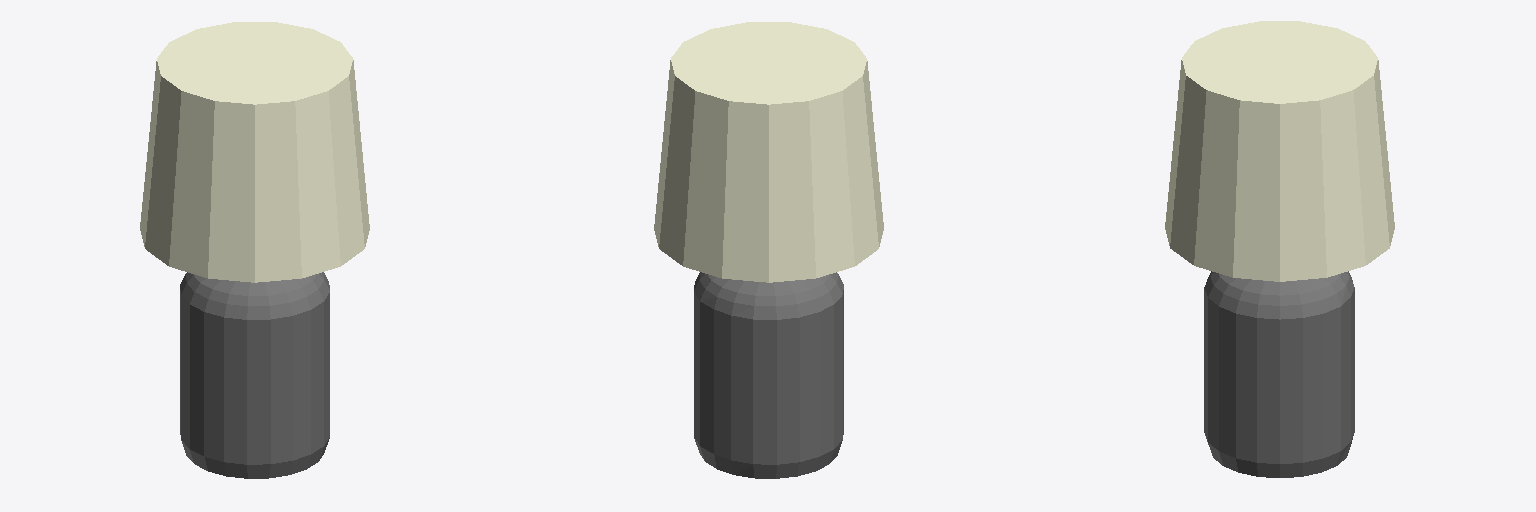
Rendered from lamptexture.obj.
3 views of the same model, side by side, from view 1: azimuth 30°, elevation 25°; view 2: azimuth 150°, elevation 25°; view 3: azimuth 270°, elevation 25° (orthographic).
Parts seen in each view (by area): view 1: group pasted__lampshade, group pasted__pCylinder1; view 2: group pasted__lampshade, group pasted__pCylinder1; view 3: group pasted__lampshade, group pasted__pCylinder1.
Part boxes in pixels (left/top/right/bottom): group pasted__lampshade: left=140, top=22, right=369, bottom=282; group pasted__pCylinder1: left=180, top=272, right=329, bottom=478; group pasted__lampshade: left=654, top=22, right=883, bottom=282; group pasted__pCylinder1: left=694, top=272, right=843, bottom=478; group pasted__lampshade: left=1165, top=21, right=1394, bottom=281; group pasted__pCylinder1: left=1204, top=271, right=1354, bottom=477.
Size of the model in its own units: 5.64 by 10.51 by 5.67.